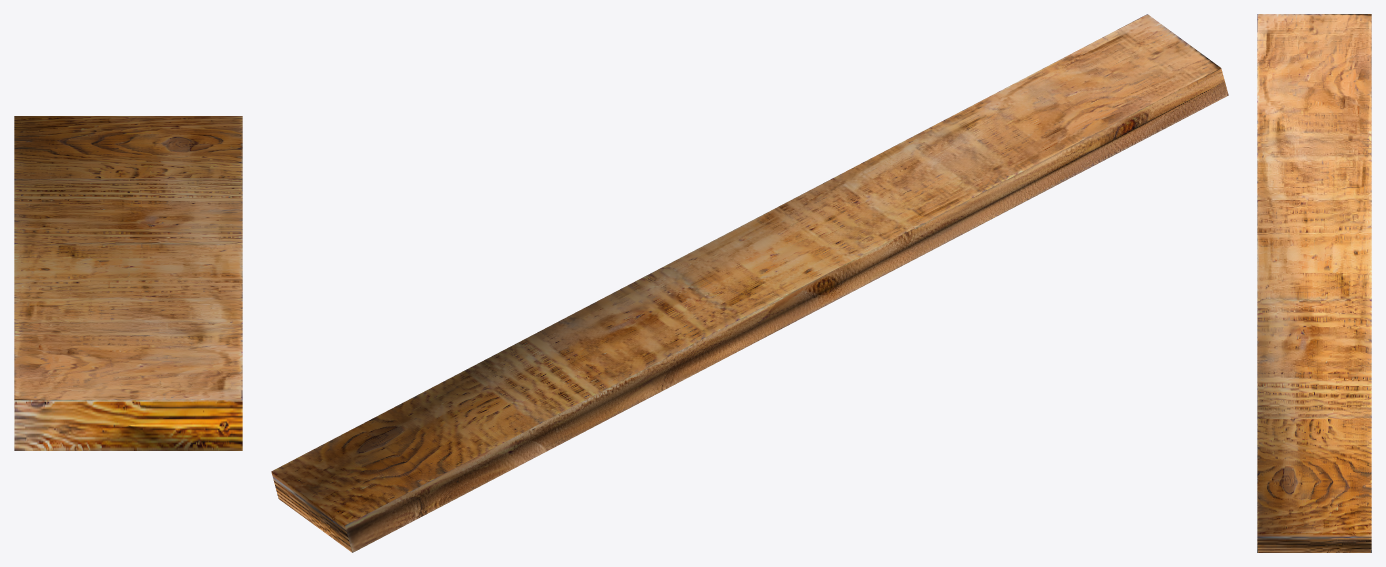
File: plank.glb
3 views of the same model, side by side, from view 1: azimuth 90°, elevation 25°; view 2: azimuth 210°, elevation 25°; view 3: azimuth 270°, elevation 25° (orthographic). The views are drawn at different scales.
Bounding box in the file's own units: 14.39 × 4.25 × 2.08.
1 material, 1 textured.
